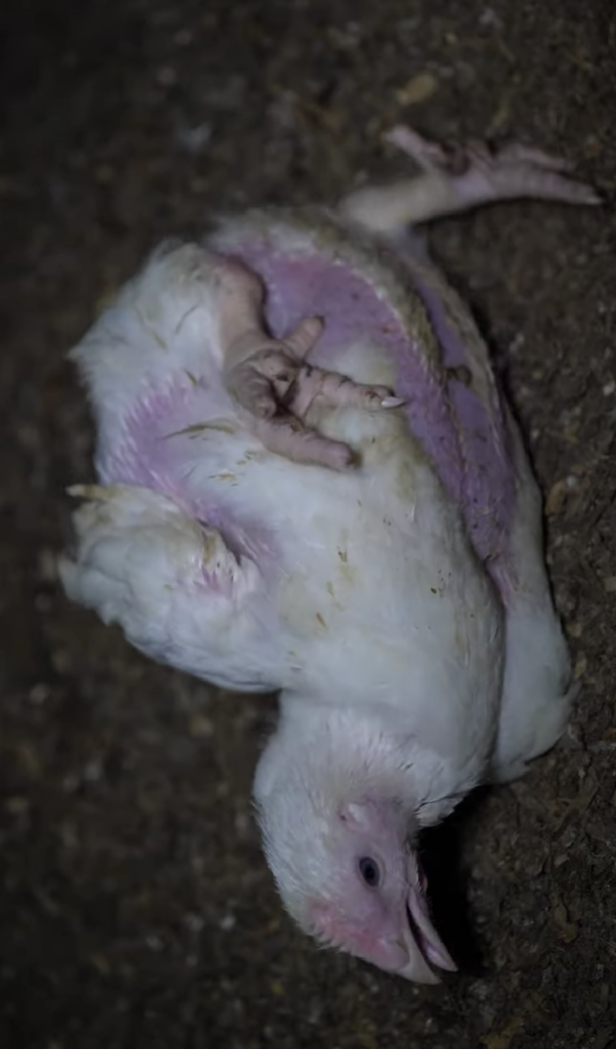Unhealthy: (36, 115, 578, 959)
